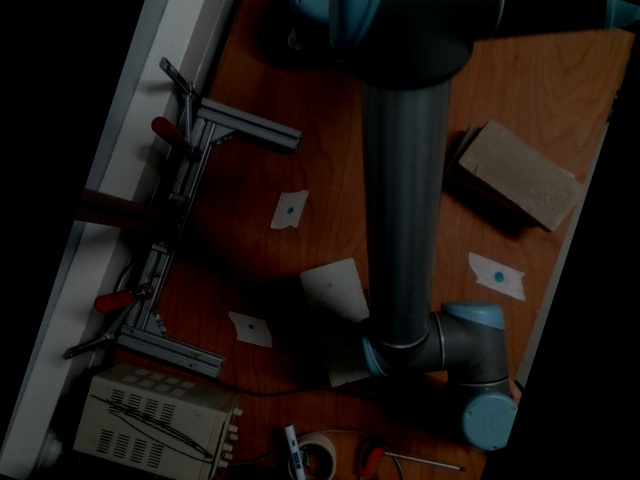brick: (457, 118, 588, 234)
